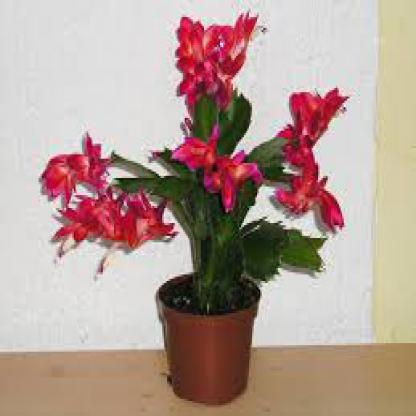Aglonema: (98, 33, 309, 373)
